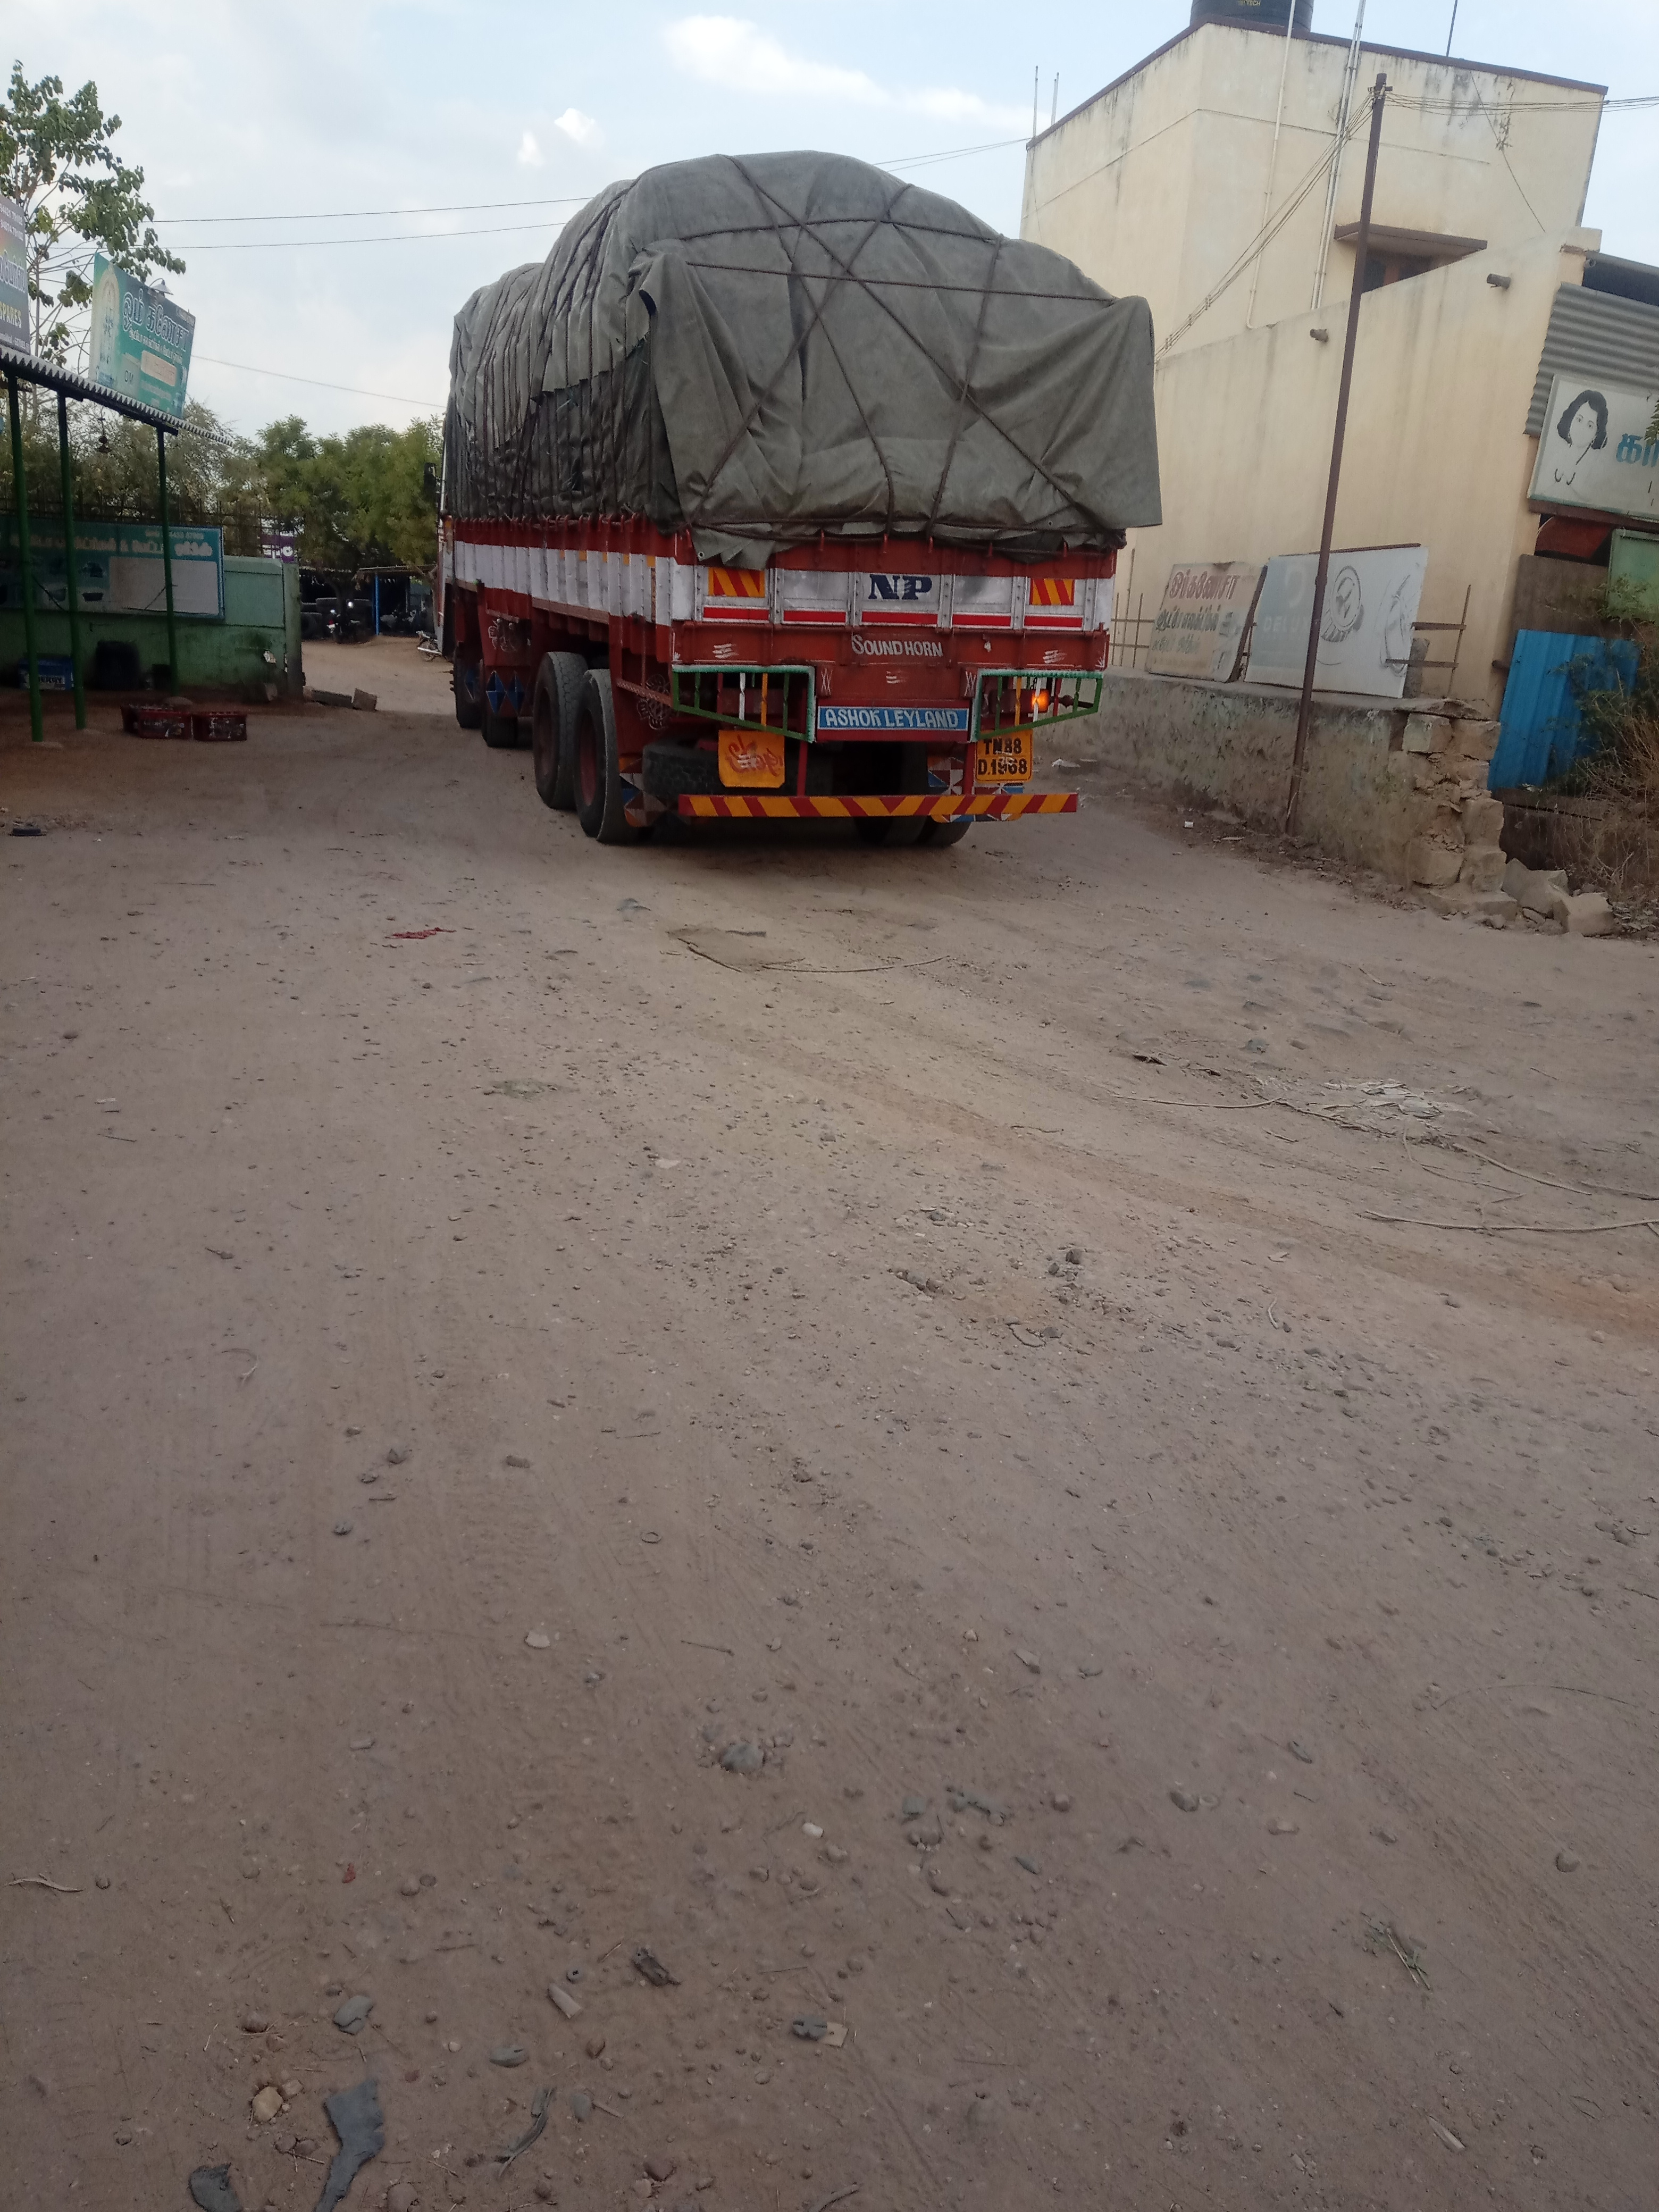truck: (418, 148, 1166, 853)
